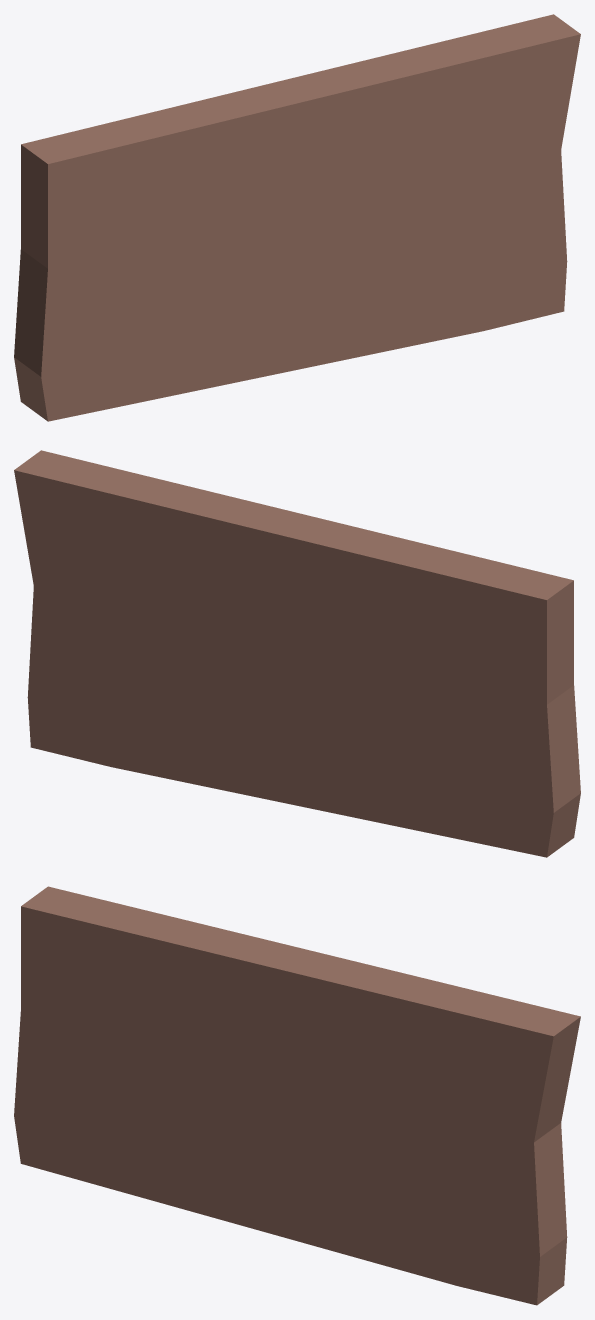
Rendered from Brick 01.fbx.
3 renders of one model, top to bottom at view 1: azimuth 30°, elevation 25°; view 2: azimuth 150°, elevation 25°; view 3: azimuth 330°, elevation 25°, orthographic.
Parts seen in each view (by area): view 1: Brick 01; view 2: Brick 01; view 3: Brick 01.
Part boxes in pixels (x1,y1,x2,y2): Brick 01: (14,14,580,421); Brick 01: (14,450,580,857); Brick 01: (14,886,580,1305).
Size of the model in its own units: 35.01 by 16.93 by 3.05.
